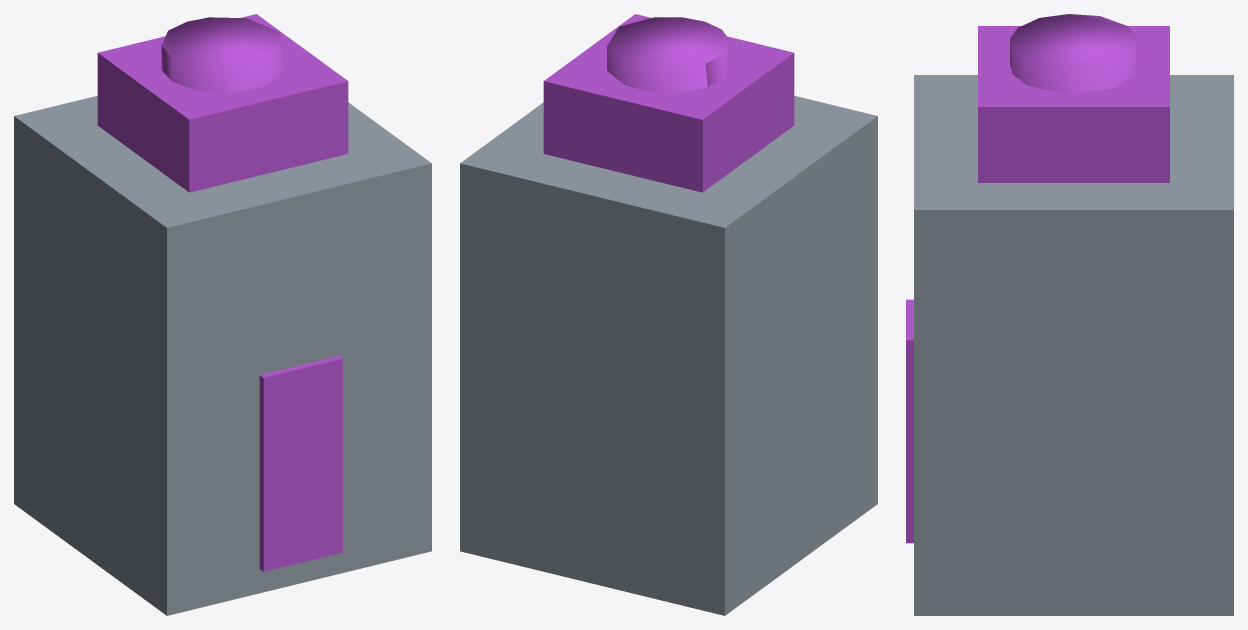
Rendered from CH_Radar_LOD1.glb.
The picture shows the model from 3 angles, left to right: view 1: azimuth 30°, elevation 25°; view 2: azimuth 150°, elevation 25°; view 3: azimuth 270°, elevation 25°; orthographic projection. The views are drawn at different scales.
Parts seen in each view (by area): view 1: EntranceGate; view 2: EntranceGate; view 3: EntranceGate.
Part boxes in pixels (<box>): EntranceGate: <box>14,14,431,615</box>; EntranceGate: <box>460,14,877,615</box>; EntranceGate: <box>906,14,1233,615</box>.
Bounding box in the file's own units: 400 × 700 × 410.
